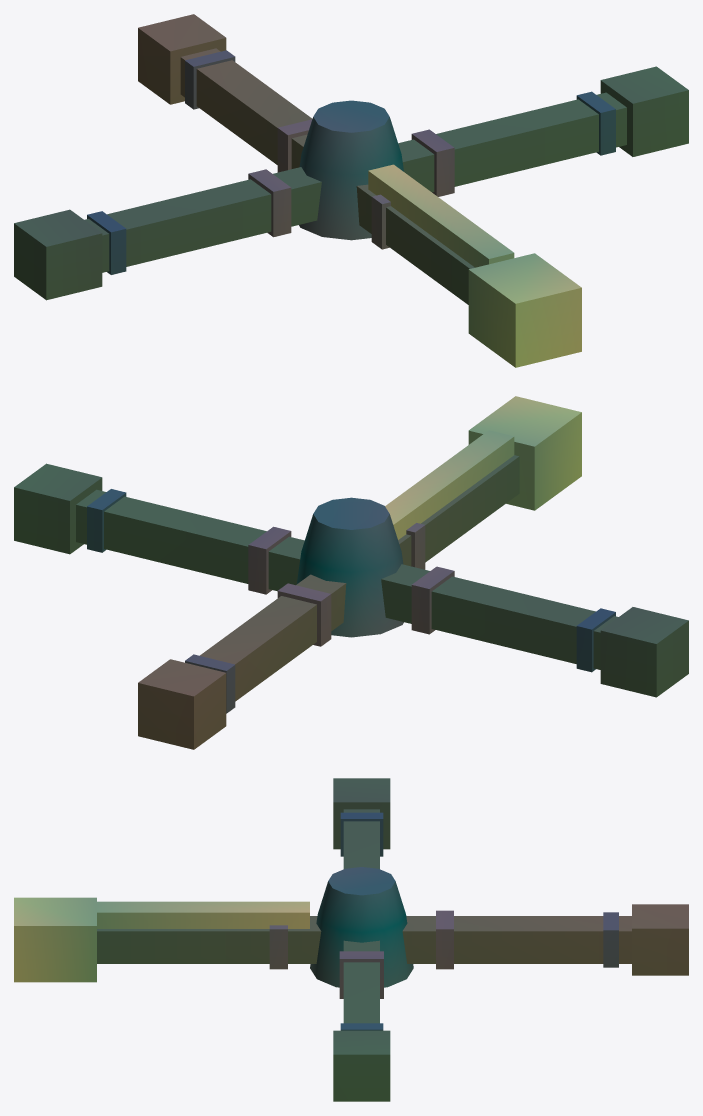
Rendered from capstan_bars.glb.
The picture shows the model from 3 angles, top to bottom: view 1: azimuth 30°, elevation 25°; view 2: azimuth 150°, elevation 25°; view 3: azimuth 270°, elevation 25°; orthographic projection. The views are drawn at different scales.
Parts seen in each view (by area): view 1: cap_bars, cap_goldbar, cap_hub, cap_straps; view 2: cap_bars, cap_goldbar, cap_hub, cap_straps; view 3: cap_bars, cap_goldbar, cap_hub, cap_straps.
Boxes of the visible parts, x1,y1,x2,y2 form: cap_bars: [14, 14, 688, 304]; cap_goldbar: [368, 164, 581, 367]; cap_hub: [299, 100, 403, 240]; cap_straps: [87, 50, 615, 274]; cap_bars: [14, 455, 688, 749]; cap_goldbar: [385, 396, 581, 539]; cap_hub: [296, 497, 403, 637]; cap_straps: [87, 489, 615, 713]; cap_bars: [97, 778, 688, 1101]; cap_goldbar: [14, 897, 309, 982]; cap_hub: [310, 867, 413, 987]; cap_straps: [269, 812, 618, 1030].
Size of the model in its own units: 2.52 by 0.37 by 2.6.
